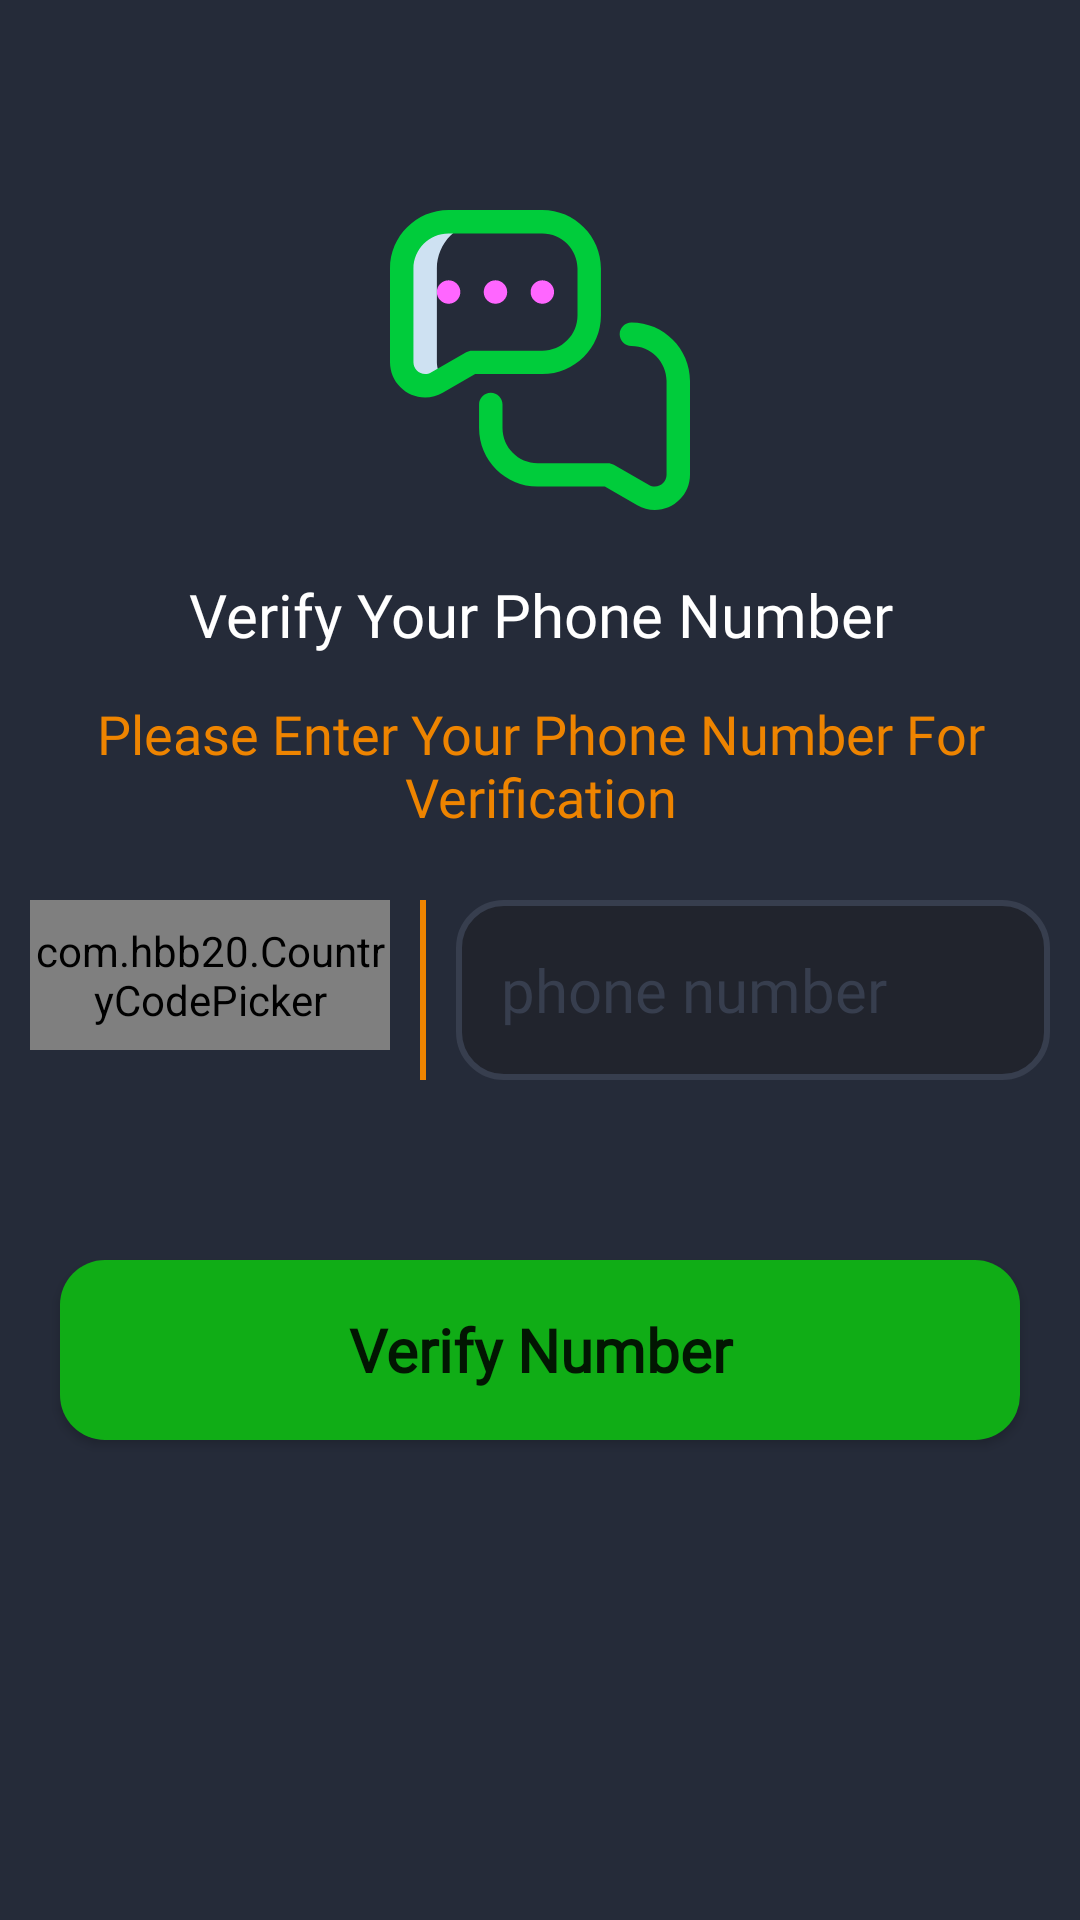

Locate icon controls on the screen. Image size 1080*1920, boxes as (x1,y1,x2,y2).
conversation: (390,210,690,510)
